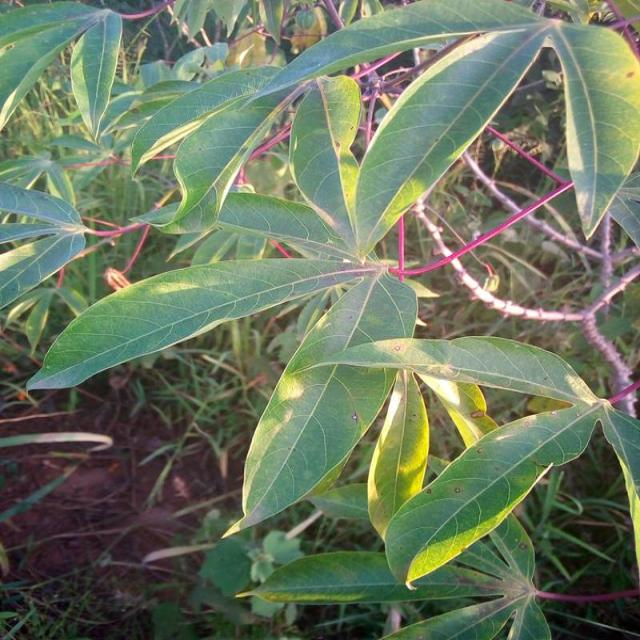cassava leaf: (220, 266, 418, 538), (353, 20, 550, 258), (25, 256, 361, 391)
